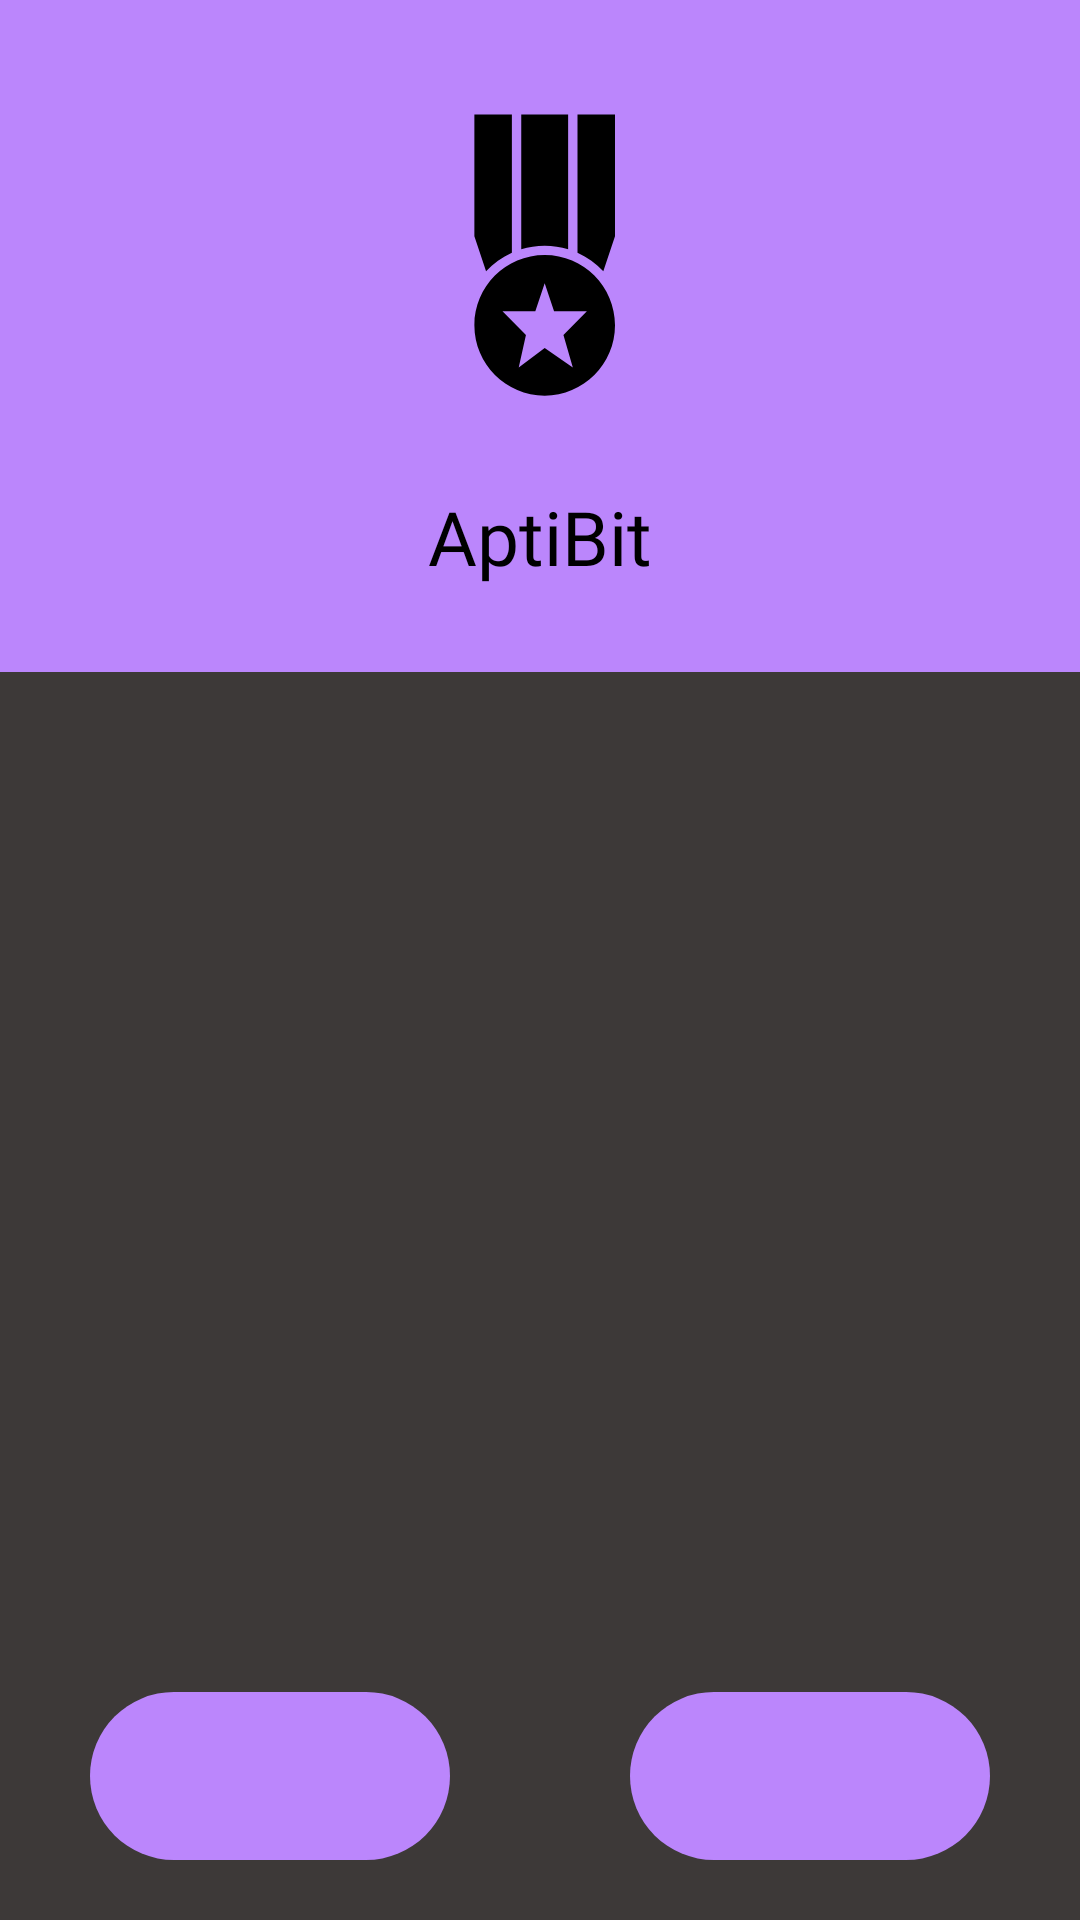

Locate icon controls on the screen. Image size 1080 x 1920, boxes as (x1, y1, x2, y2).
success: (474, 114, 615, 396)
